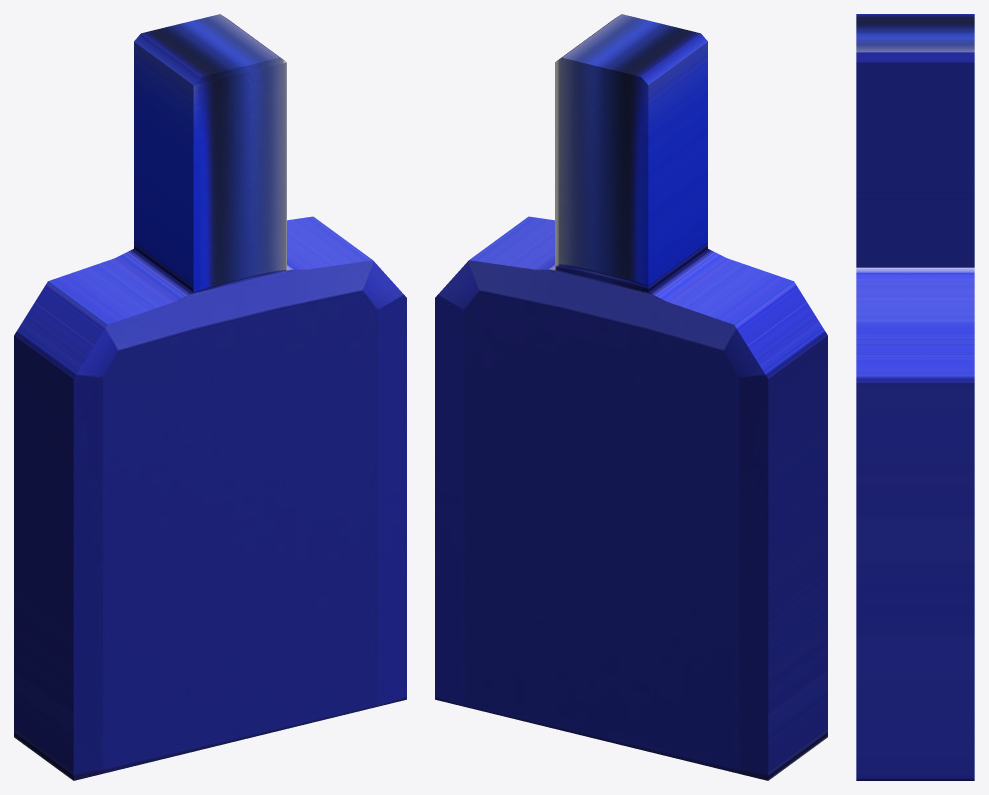
Rendered from parfum.glb.
3 views of the same model, side by side, from view 1: azimuth 30°, elevation 25°; view 2: azimuth 150°, elevation 25°; view 3: azimuth 270°, elevation 25° (orthographic).
Parts seen in each view (by area): view 1: Plane; view 2: Plane; view 3: Plane.
Boxes of the visible parts, left/top/right/bottom form: Plane: left=14, top=14, right=406, bottom=780; Plane: left=435, top=14, right=827, bottom=780; Plane: left=856, top=14, right=974, bottom=780.
Bounding box in the file's own units: 2.45 × 4.73 × 0.7594.
1 material, 1 textured.
